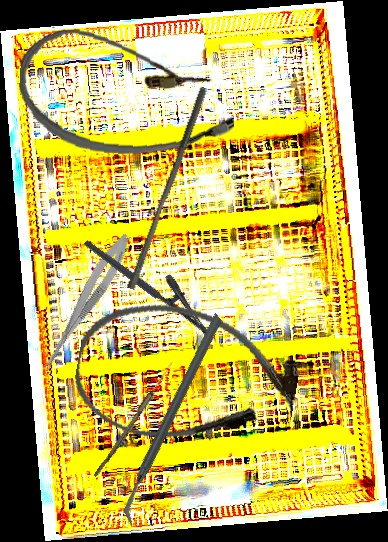Cannula: (66, 289, 308, 463), (15, 25, 240, 162)
Chopper: (61, 312, 286, 527)
Micro Scissor: (36, 228, 137, 379)
Needle Holder: (82, 221, 228, 341)
Pusher: (126, 83, 208, 293)
Surgical Spoon: (93, 359, 175, 480)
